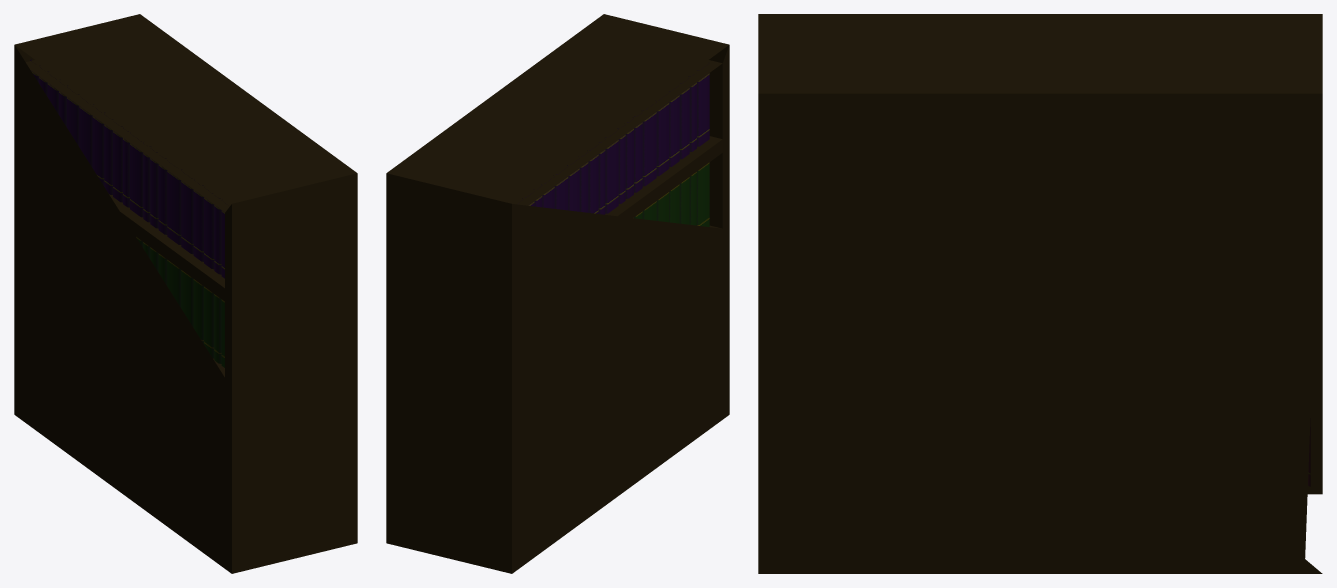
File: shelf_books_1.obj
The picture shows the model from 3 angles, left to right: view 1: azimuth 30°, elevation 25°; view 2: azimuth 150°, elevation 25°; view 3: azimuth 270°, elevation 25°; orthographic projection. The views are drawn at different scales.
Parts seen in each view (by area): view 1: comb_booksnew1; view 2: comb_booksnew1; view 3: comb_booksnew1.
Boxes of the visible parts, x1=… form: comb_booksnew1: x1=14, y1=14, x2=357, y2=573; comb_booksnew1: x1=386, y1=14, x2=729, y2=573; comb_booksnew1: x1=758, y1=14, x2=1322, y2=573.
Bounding box in the file's own units: 4 × 11.26 × 12.
